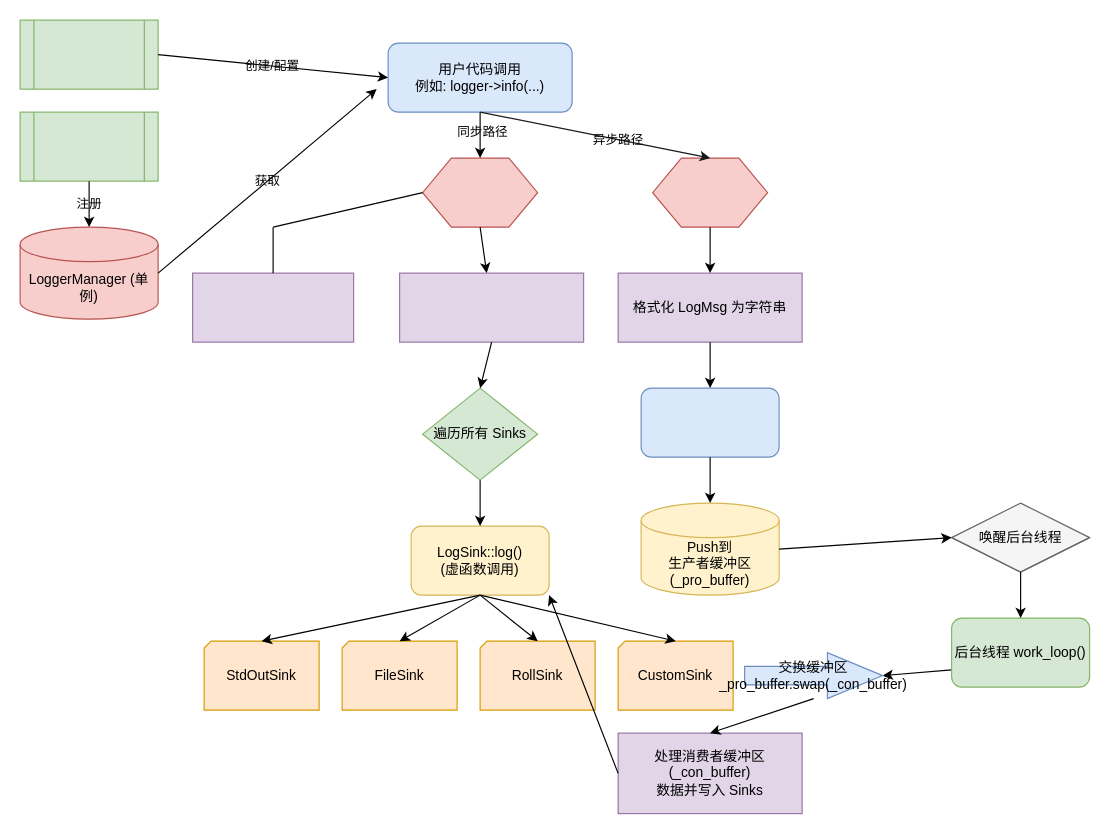
This 1110x834 diagram has some shape labels left out. Each missing label, with the centre of its shape:
AsyncLogger: (x=709, y=192)
AsyncLooper::push(): (x=709, y=422)
Formatter 格式化 LogMsg 为字符串: (x=491, y=307)
GlobalLoggerBuilder: (x=88, y=146)
LoggerBuilder: (x=88, y=54)
SyncLogger: (x=479, y=192)
创建 LogMsg 对象 (包含时间,行号,线程ID等): (x=272, y=307)
